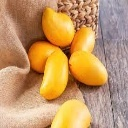mango: (40, 51, 69, 99)
